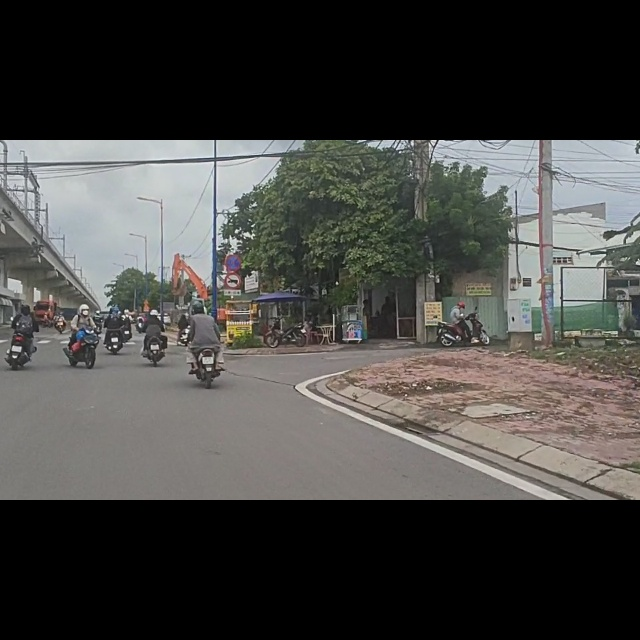bien_cam: (225, 203, 242, 233), (224, 236, 242, 264)
